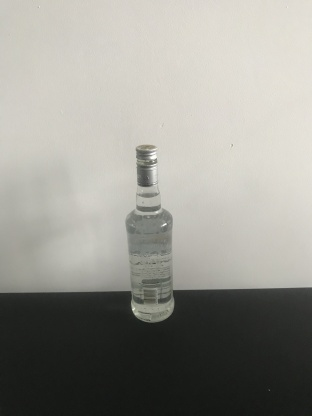nakretka: (134, 143, 159, 187)
